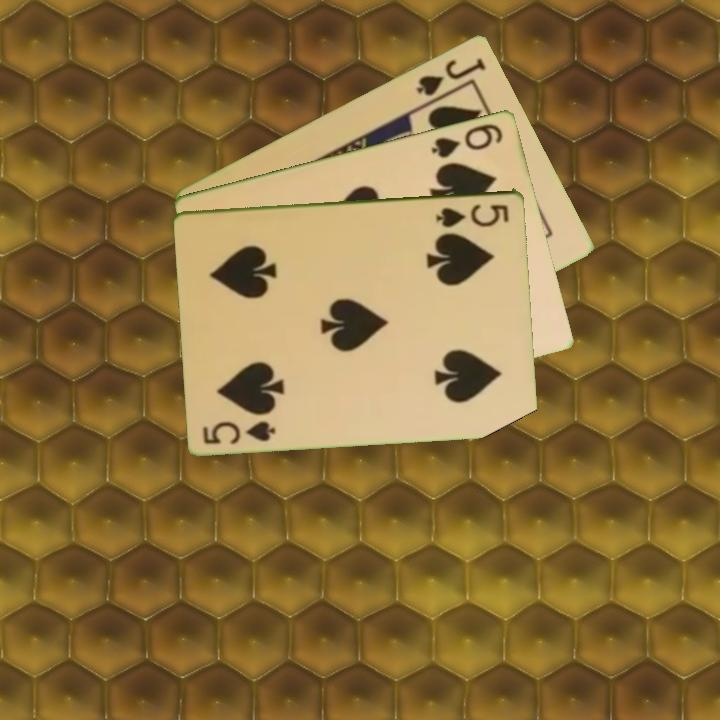5s: (433, 200, 512, 230), (200, 417, 279, 447)
6s: (427, 119, 506, 161)
Js: (412, 54, 489, 98)
